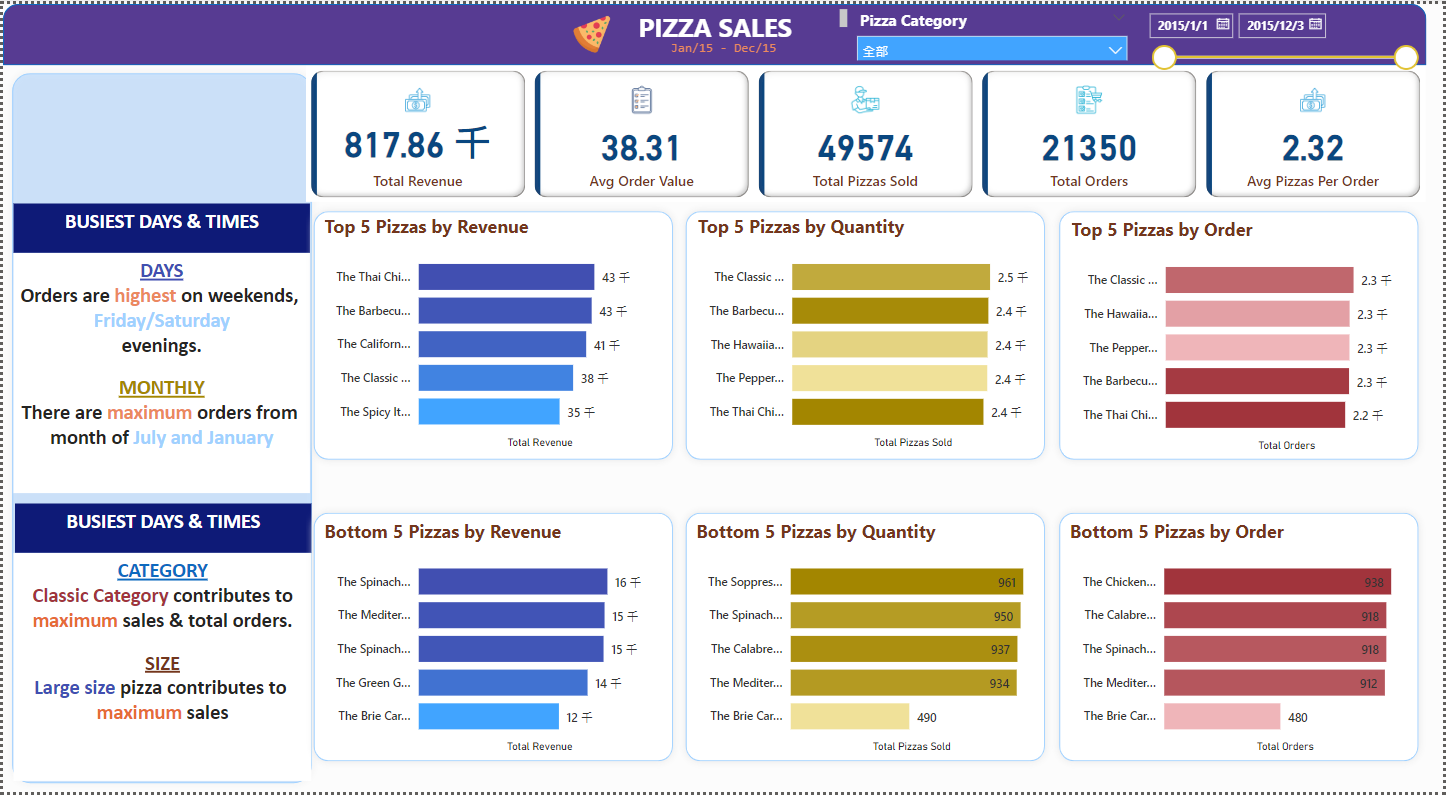

The dashboard page shown, as its layout file describes it:
{"tool":"powerbi","page":{"name":"Best / Worest Sellers","canvas":[1500,820],"ordinal":1},"visuals":[{"type":"shape","box":[1.8,63.8,328,755.3],"z":0},{"type":"cardVisual","fields":{"Data":["pizza_sales.Total Revenue","pizza_sales.Avg Order Value","pizza_sales.Total Pizzas Sold","pizza_sales.Total Orders","pizza_sales.Avg Pizzas Per Order"]},"box":[316,64,1166,142],"z":1000},{"type":"shape","box":[0,0,1482.3,63.8],"z":2000},{"type":"textbox","box":[614,0,270,46],"z":3000},{"type":"textbox","box":[689.7,30.1,124.1,33.7],"z":4000},{"type":"image","box":[586,6,54,50],"z":5000},{"type":"textbox","box":[10.6,207.4,308.5,51.4],"z":16000},{"type":"textbox","box":[10.6,258.9,308.5,250],"z":17000},{"type":"textbox","box":[12.4,519.5,308.5,51.4],"z":18000},{"type":"textbox","box":[10.6,570.9,310.3,237.6],"z":19000},{"type":"slicer","fields":{"Values":["pizza_sales.pizza_category"]},"box":[879.4,0,301.4,58.5],"z":20000},{"type":"slicer","fields":{"Values":["pizza_sales.order_date"]},"box":[1180.9,0,301.4,81.6],"z":21000},{"type":"shape","box":[1092.2,521.3,390.1,274.8],"z":21004},{"type":"shape","box":[702.1,521.3,390.1,274.8],"z":21006},{"type":"shape","box":[315.6,521.3,390.1,274.8],"z":21007},{"type":"shape","box":[315.6,207.4,390.1,274.8],"z":21008},{"type":"shape","box":[702.1,207.4,390.1,274.8],"z":21009},{"type":"shape","box":[1092.2,207.4,390.1,274.8],"z":21010},{"type":"barChart","title":"Top 5 Pizzas by Revenue ","fields":{"Category":["pizza_sales.pizza_name"],"Y":["pizza_sales.Total Revenue"]},"box":[329.6,219,360.6,247.8],"z":21011},{"type":"barChart","title":"Bottom 5 Pizzas by Revenue ","fields":{"Category":["pizza_sales.pizza_name"],"Y":["pizza_sales.Total Revenue"]},"box":[329.8,535.5,359.9,248.2],"z":21012},{"type":"barChart","title":"Top 5 Pizzas by Quantity","fields":{"Category":["pizza_sales.pizza_name"],"Y":["pizza_sales.Total Pizzas Sold"]},"box":[718.1,218.1,359.9,248.2],"z":21013},{"type":"barChart","title":"Bottom 5 Pizzas by Quantity","fields":{"Category":["pizza_sales.pizza_name"],"Y":["pizza_sales.Total Pizzas Sold"]},"box":[716.3,535.5,359.9,248.2],"z":21014},{"type":"barChart","title":"Top 5 Pizzas by Order","fields":{"Category":["pizza_sales.pizza_name"],"Y":["pizza_sales.Total Orders"]},"box":[1108.2,221.6,359.9,248.2],"z":21015},{"type":"barChart","title":"Bottom 5 Pizzas by Order","fields":{"Category":["pizza_sales.pizza_name"],"Y":["pizza_sales.Total Orders"]},"box":[1106.4,535.5,359.9,248.2],"z":21016}]}

Visuals, with their boxes in screenshot pixels (x1, y1, x2, y2), scaled from the page's 1500x820 canvas onto the 1446x795 screenshot:
shape: (x1=2, y1=62, x2=318, y2=794)
cardVisual - pizza_sales.Total Revenue x pizza_sales.Avg Order Value: (x1=305, y1=62, x2=1429, y2=200)
shape: (x1=0, y1=0, x2=1429, y2=62)
textbox: (x1=592, y1=0, x2=852, y2=45)
textbox: (x1=665, y1=29, x2=785, y2=62)
image: (x1=565, y1=6, x2=617, y2=54)
textbox: (x1=10, y1=201, x2=308, y2=251)
textbox: (x1=10, y1=251, x2=308, y2=493)
textbox: (x1=12, y1=504, x2=309, y2=553)
textbox: (x1=10, y1=553, x2=309, y2=784)
slicer - pizza_sales.pizza_category: (x1=848, y1=0, x2=1138, y2=57)
slicer - pizza_sales.order_date: (x1=1138, y1=0, x2=1429, y2=79)
shape: (x1=1053, y1=505, x2=1429, y2=772)
shape: (x1=677, y1=505, x2=1053, y2=772)
shape: (x1=304, y1=505, x2=680, y2=772)
shape: (x1=304, y1=201, x2=680, y2=467)
shape: (x1=677, y1=201, x2=1053, y2=467)
shape: (x1=1053, y1=201, x2=1429, y2=467)
"Top 5 Pizzas by Revenue " barChart: (x1=318, y1=212, x2=665, y2=453)
"Bottom 5 Pizzas by Revenue " barChart: (x1=318, y1=519, x2=665, y2=760)
"Top 5 Pizzas by Quantity" barChart: (x1=692, y1=211, x2=1039, y2=452)
"Bottom 5 Pizzas by Quantity" barChart: (x1=691, y1=519, x2=1037, y2=760)
"Top 5 Pizzas by Order" barChart: (x1=1068, y1=215, x2=1415, y2=455)
"Bottom 5 Pizzas by Order" barChart: (x1=1067, y1=519, x2=1414, y2=760)
